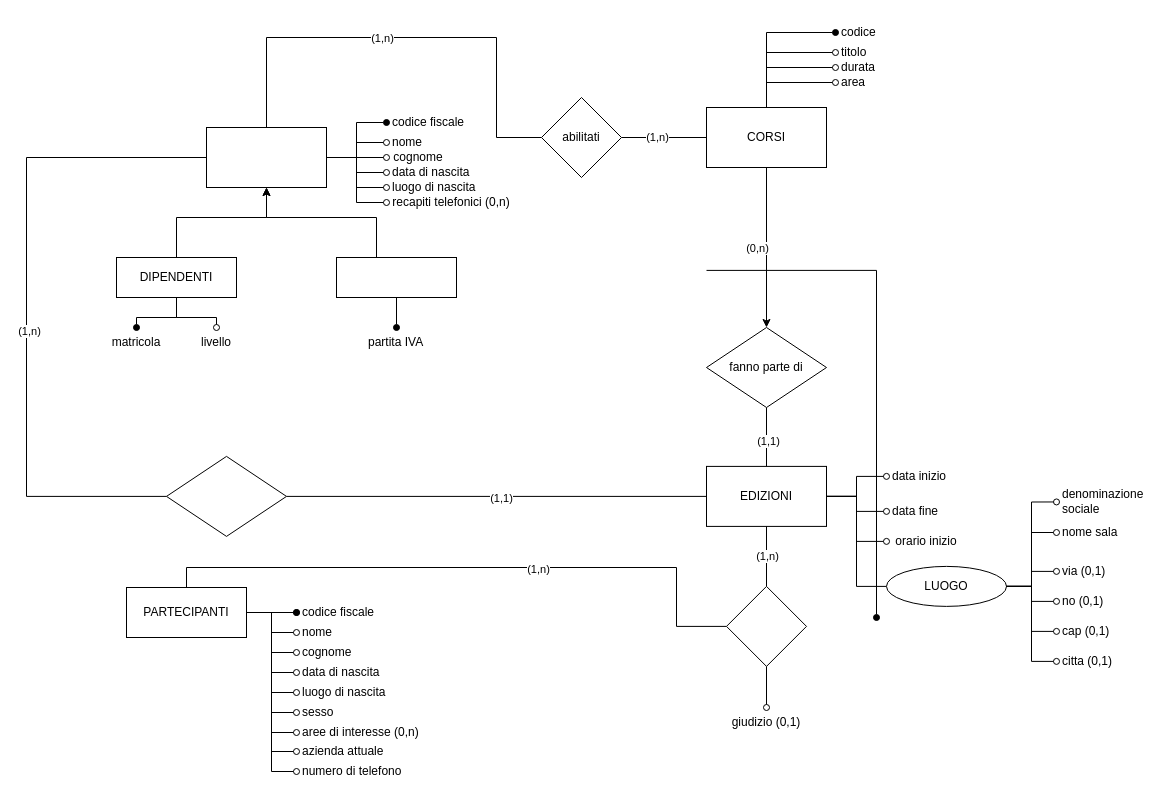
Some shapes in this 1163 by 803 pixel diagram are drawn without their labels. The shapes that lost their labels are listed below. From the top down, each one's centre as x and y in pixels, then its label:
(266,157): DOCENTI
(396,277): COLLABORATORI ESTERNI
(226,495): tengono
(766,625): partecipano
